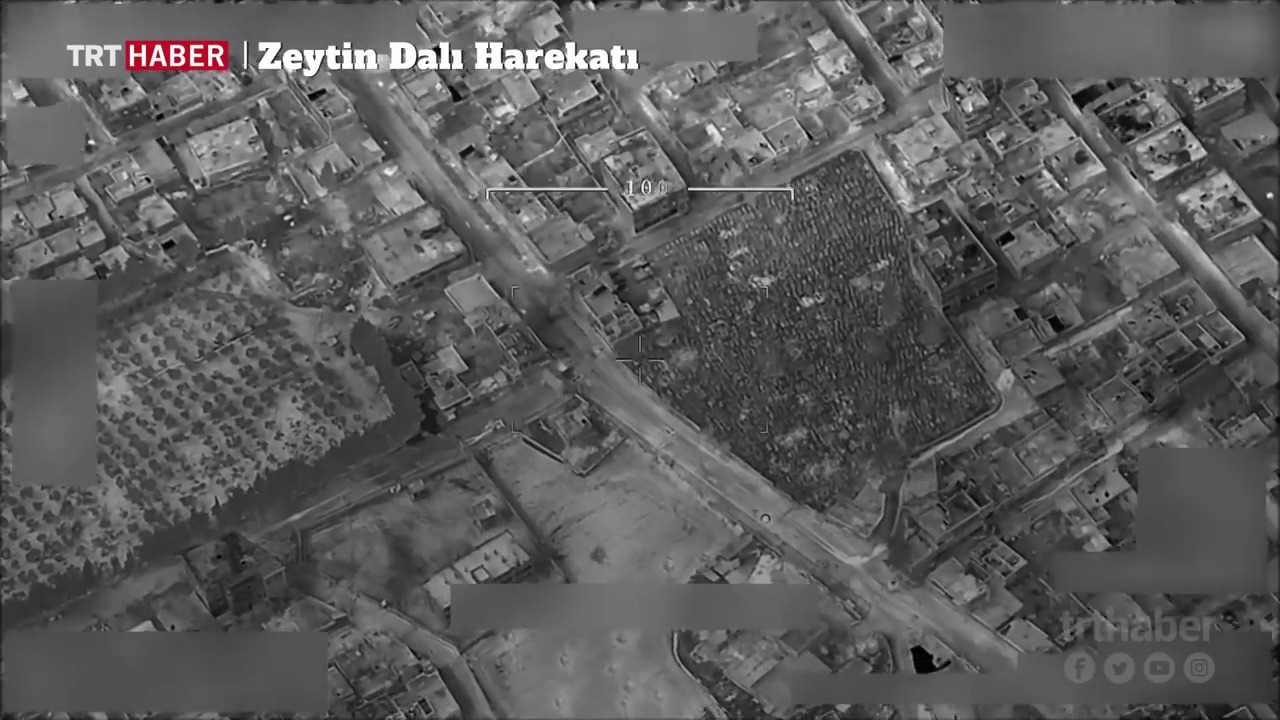bina: (356, 196, 460, 296)
